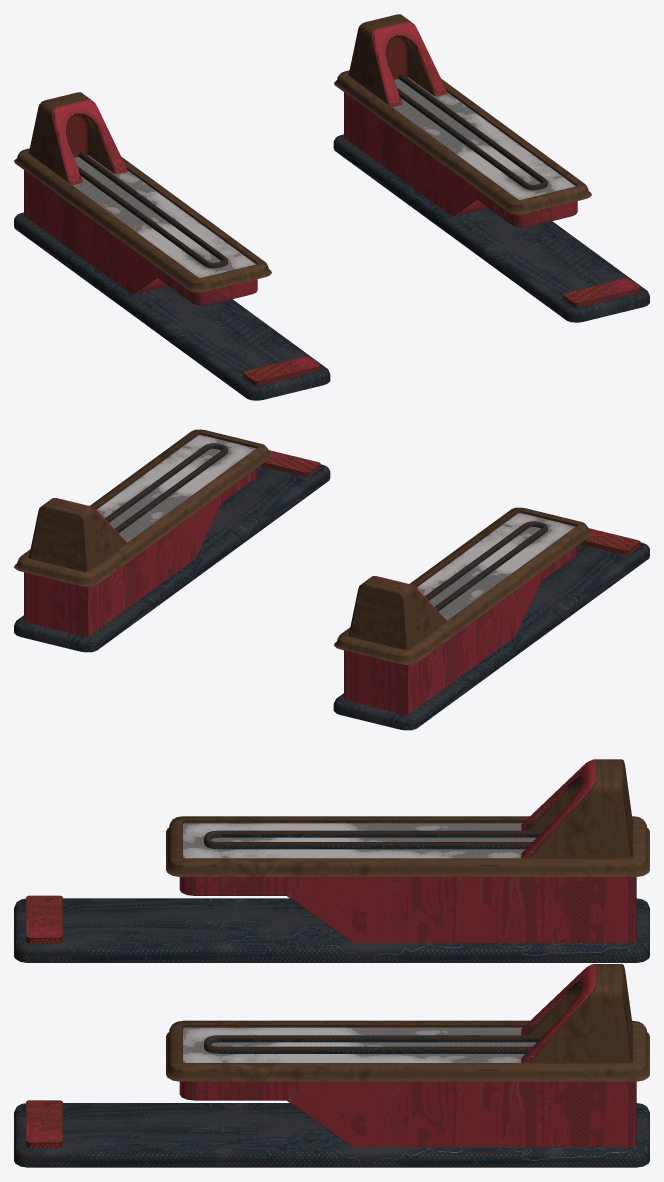
Rendered from SM_BBallRack.glb.
3 views of the same model, one above another, from view 1: azimuth 30°, elevation 25°; view 2: azimuth 150°, elevation 25°; view 3: azimuth 270°, elevation 25° (orthographic). The views are drawn at different scales.
Visible parts, largest first — view 1: SM_BBallRack; view 2: SM_BBallRack; view 3: SM_BBallRack.
Boxes of the visible parts, left/top/right/bottom form: SM_BBallRack: left=14, top=14, right=649, bottom=400; SM_BBallRack: left=14, top=429, right=649, bottom=730; SM_BBallRack: left=14, top=759, right=649, bottom=1167.
Bounding box in the file's own units: 3.21 × 0.9656 × 3.35.
1 material, 1 textured.
